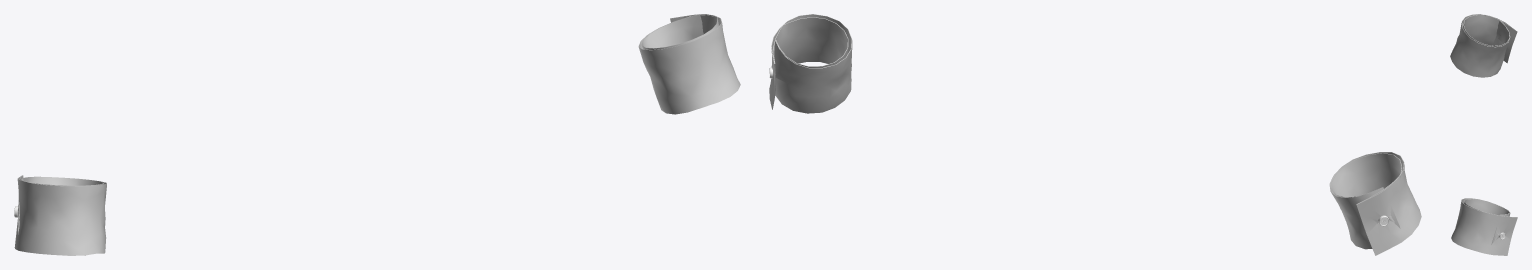
File: cuff-single-button.glb
3 views of the same model, side by side, from view 1: azimuth 30°, elevation 25°; view 2: azimuth 150°, elevation 25°; view 3: azimuth 270°, elevation 25° (orthographic). The views are drawn at different scales.
Parts seen in each view (by area): view 1: Cuffs_1_Node, Cuffs_Node, Cuffs_6_Node, Cuffs_4_Node; view 2: Cuffs_1_Node, Cuffs_Node, Cuffs_6_Node, Cuffs_4_Node; view 3: Cuffs_Node, Cuffs_1_Node, Cuffs_4_Node, Cuffs_6_Node.
Part boxes in pixels (left/top/right/bottom): Cuffs_1_Node: left=14, top=175, right=106, bottom=255; Cuffs_Node: left=638, top=14, right=740, bottom=114; Cuffs_6_Node: left=641, top=14, right=737, bottom=114; Cuffs_4_Node: left=15, top=175, right=104, bottom=255; Cuffs_1_Node: left=1329, top=152, right=1421, bottom=255; Cuffs_Node: left=769, top=14, right=852, bottom=113; Cuffs_6_Node: left=772, top=17, right=848, bottom=109; Cuffs_4_Node: left=1331, top=153, right=1412, bottom=255; Cuffs_Node: left=1451, top=198, right=1517, bottom=255; Cuffs_1_Node: left=1450, top=14, right=1517, bottom=77; Cuffs_4_Node: left=1462, top=14, right=1517, bottom=76; Cuffs_6_Node: left=1453, top=199, right=1516, bottom=255.
Bounding box in the file's own units: 0.7035 × 0.0824 × 0.0991.
Materials: 9 (7 with a texture image).
